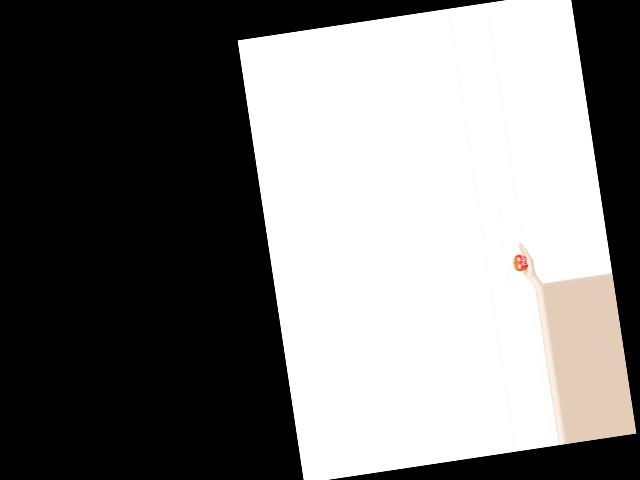tomato: (512, 253, 528, 272)
